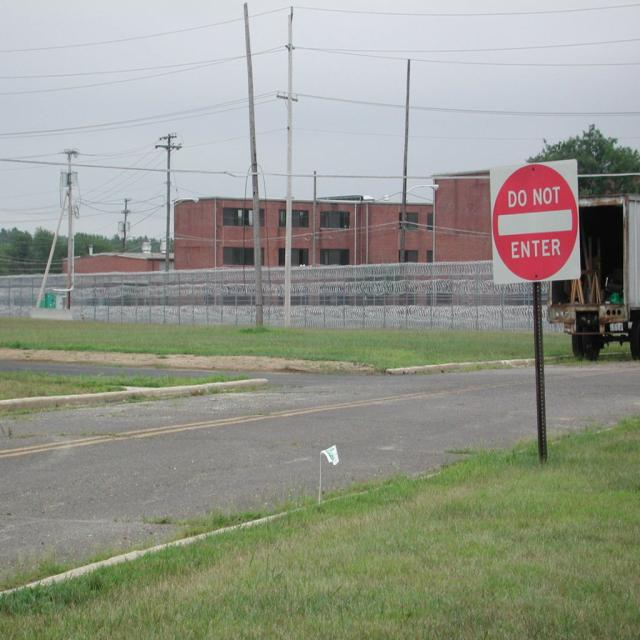Stop-sign: (492, 160, 583, 285)
